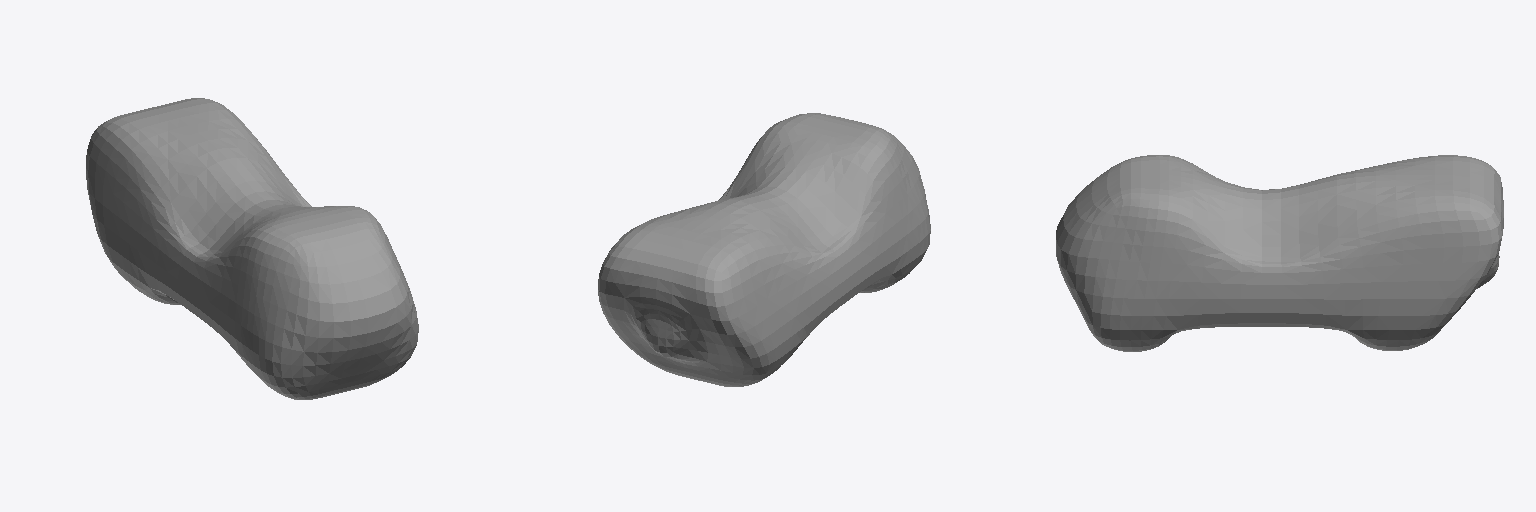
Rendered from bike.obj.
The picture shows the model from 3 angles: view 1: azimuth 30°, elevation 25°; view 2: azimuth 150°, elevation 25°; view 3: azimuth 270°, elevation 25°; orthographic projection.
Visible parts, largest first — view 1: Cube; view 2: Cube; view 3: Cube.
Part boxes in pixels (left/top/right/bottom): Cube: left=86, top=98, right=418, bottom=399; Cube: left=598, top=113, right=930, bottom=386; Cube: left=1056, top=155, right=1503, bottom=351.
Size of the model in its own units: 0.3994 by 0.4 by 1.